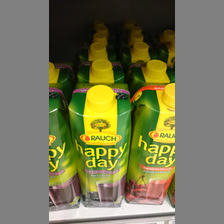juice: (68, 81, 132, 210), (131, 80, 174, 206)
